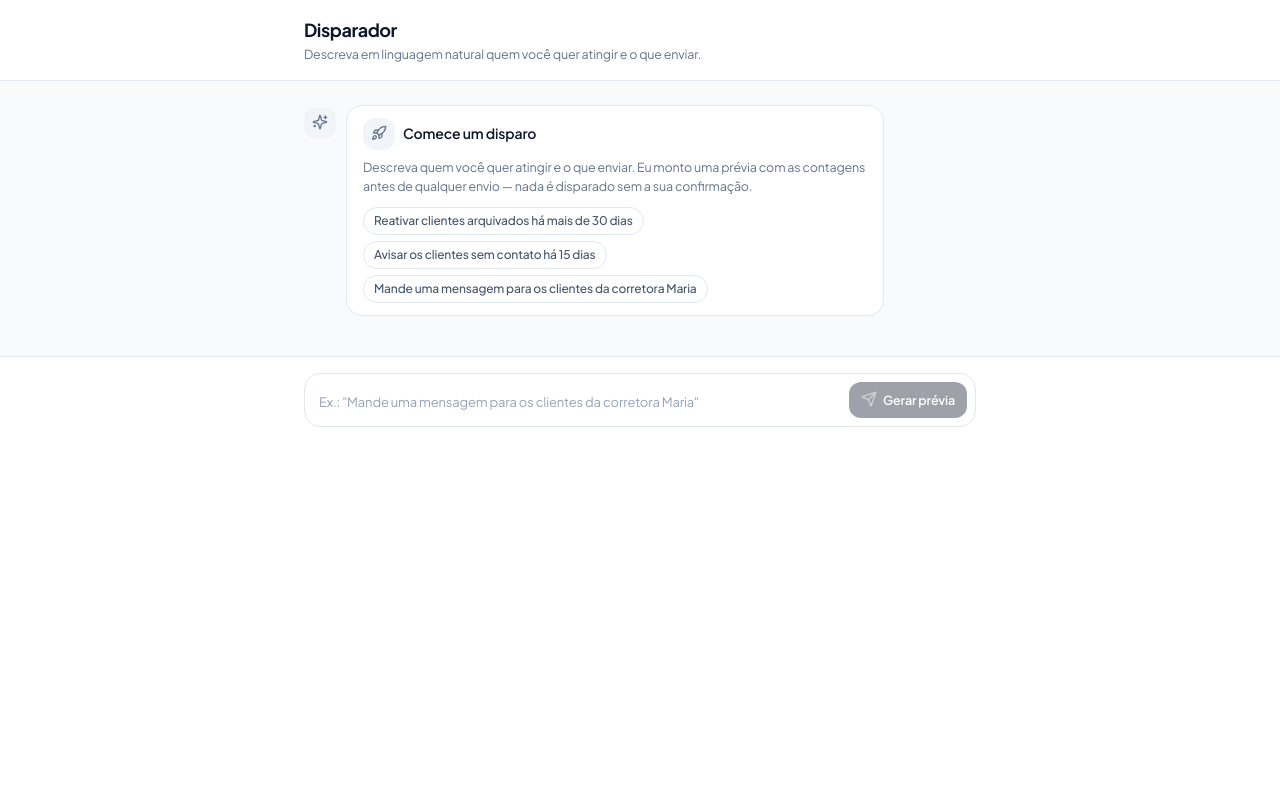
Test: trocar de template reseta o mapa anterior
Replace the text in the text box with placeholder "Mande uma mensagem" with "arquivados": (577, 403) x1=313 y1=387 x2=841 y2=418
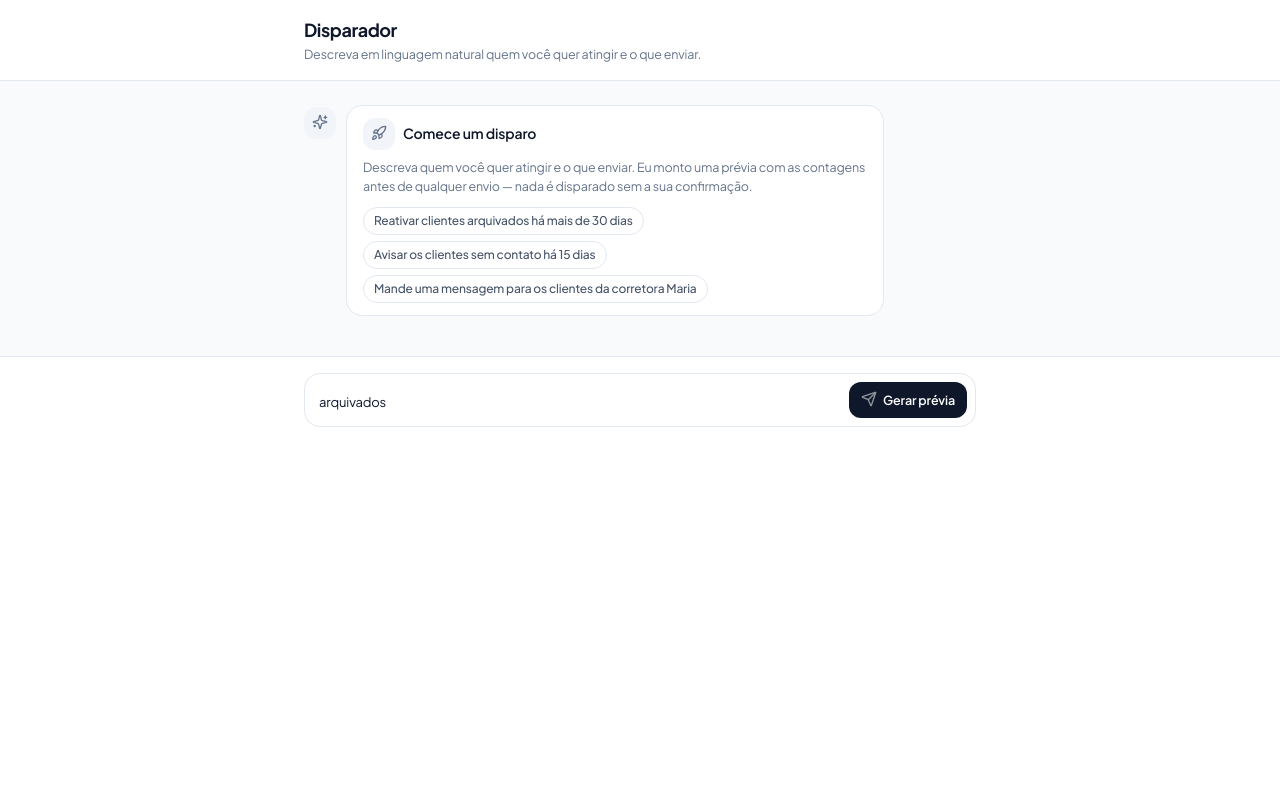
Click the button "Gerar prévia": (908, 400) x1=849 y1=382 x2=967 y2=418
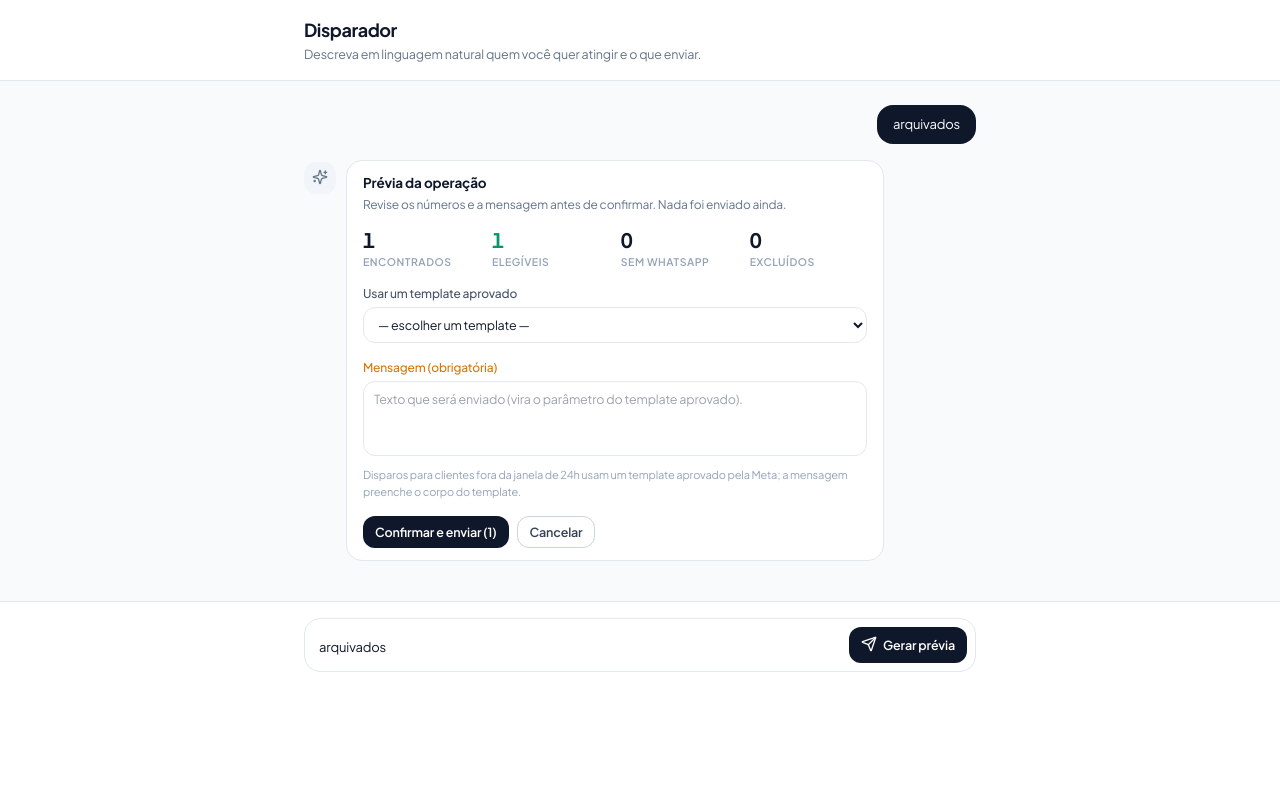
Check: the dropdown labelled "Usar um template aprovado" is shown
Select "Aprovado" in the dropdown labelled "Usar um template aprovado": (615, 325) x1=363 y1=307 x2=867 y2=343
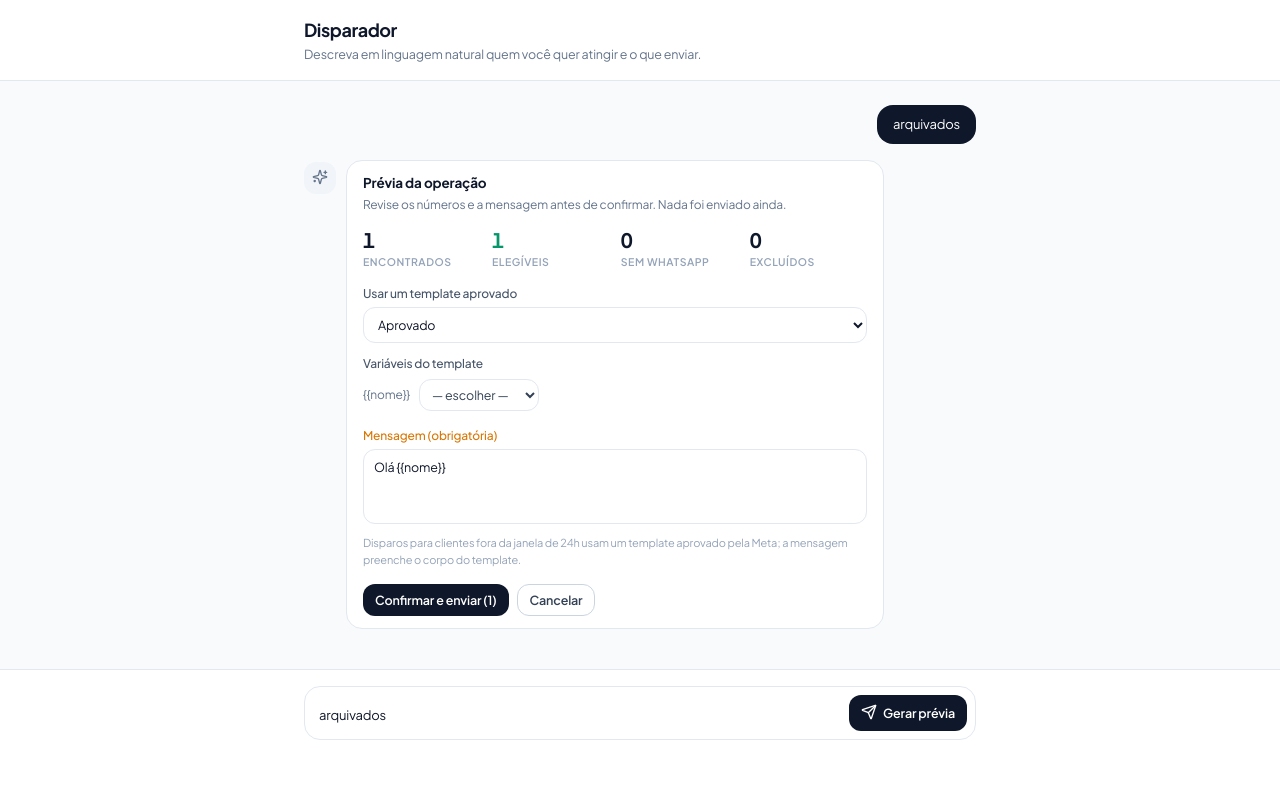
Check: the dropdown named "Variável nome" is shown
Select "Nome do lead" in the dropdown named "Variável nome": (479, 395) x1=419 y1=379 x2=539 y2=411
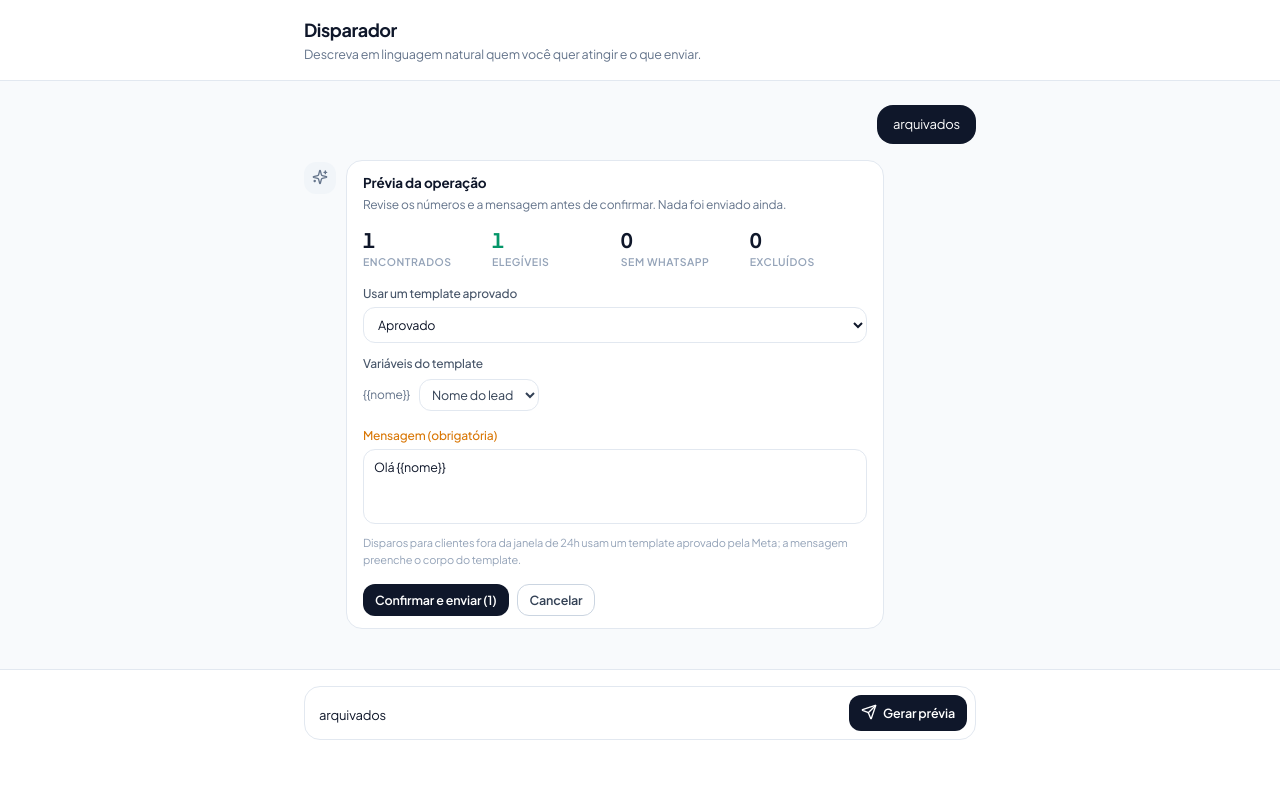
Select "— escolher um template —" in the dropdown labelled "Usar um template aprovado": (615, 325) x1=363 y1=307 x2=867 y2=343
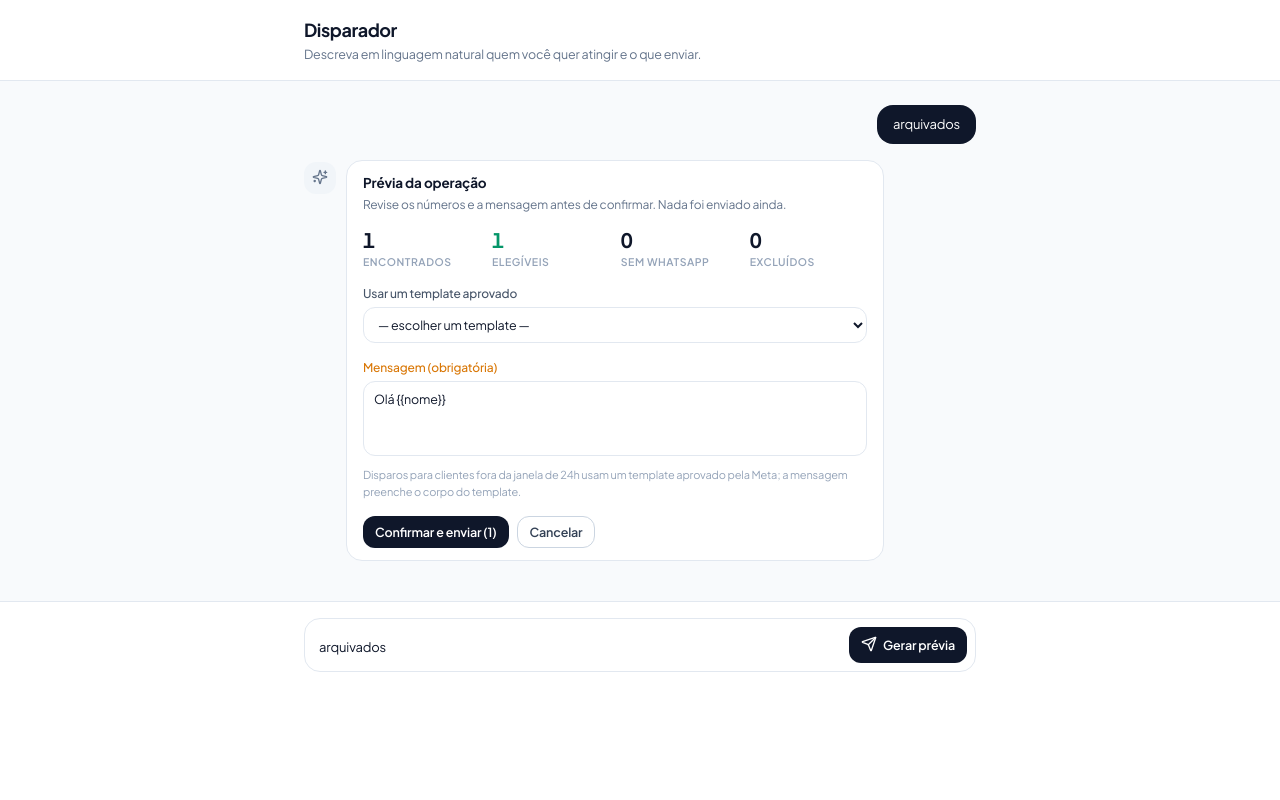
Select "Aprovado" in the dropdown labelled "Usar um template aprovado": (615, 325) x1=363 y1=307 x2=867 y2=343
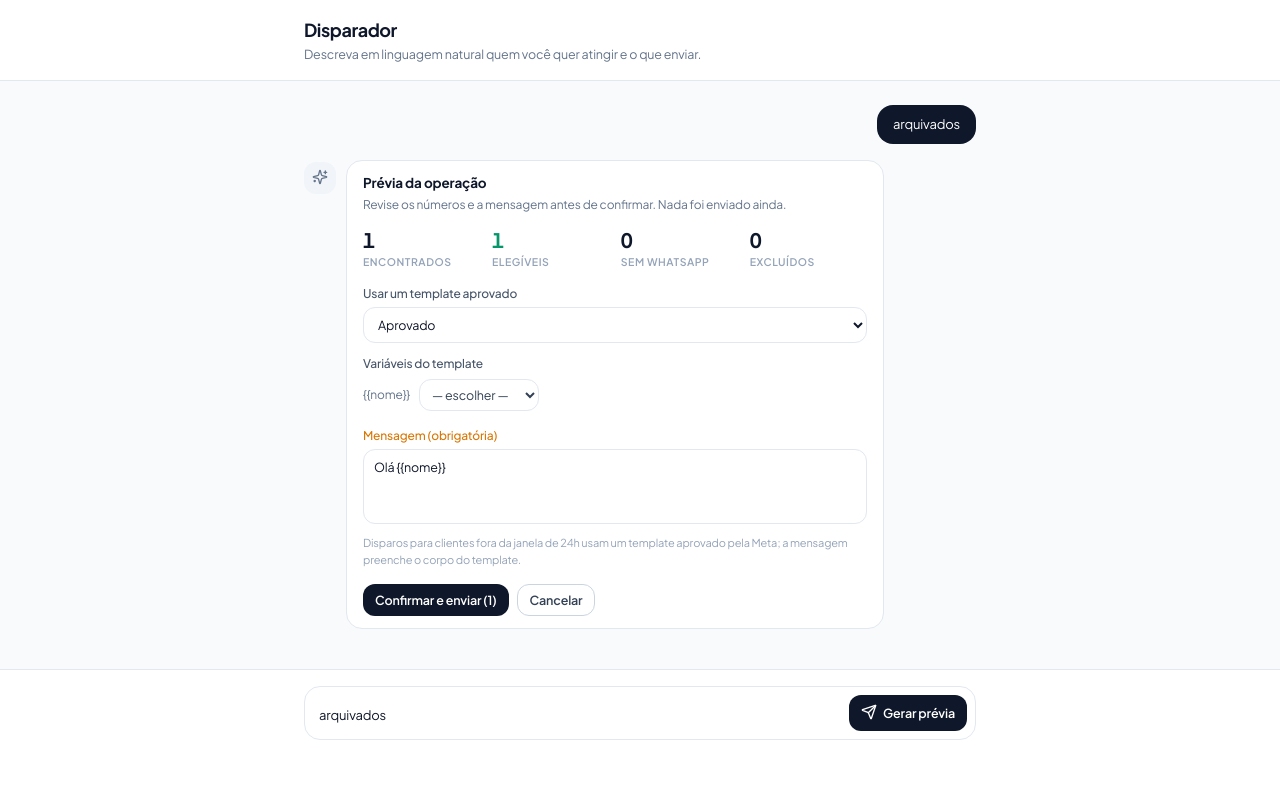
Check: the dropdown named "Variável nome" shows "— escolher —", box x1=419 y1=379 x2=539 y2=411
